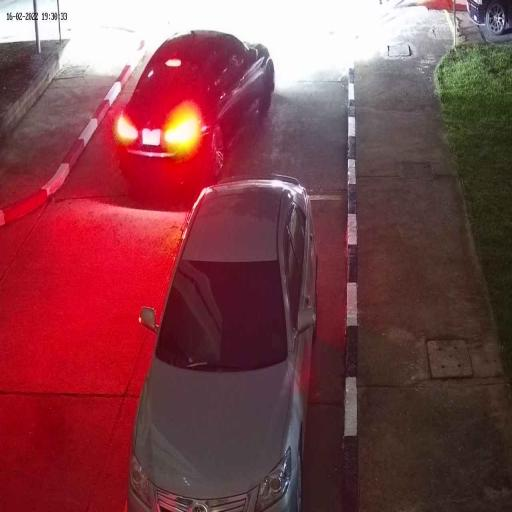car: (126, 171, 318, 511), (118, 29, 276, 177)
